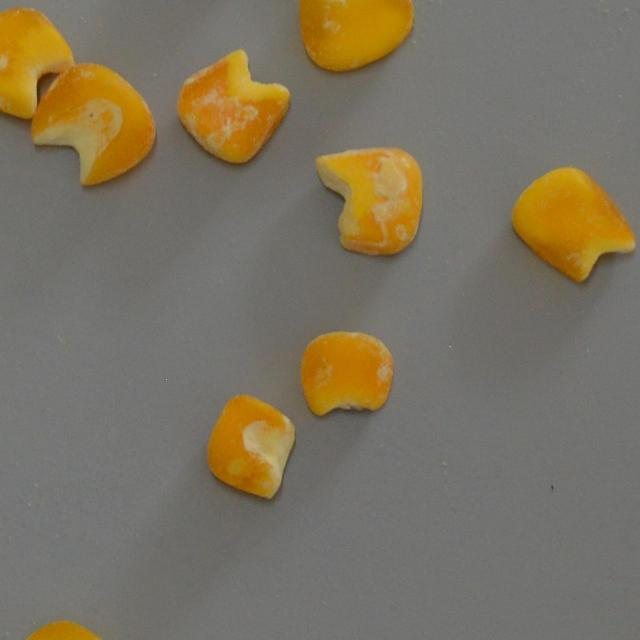no_canjicado: (510, 166, 634, 282), (204, 394, 296, 500)
pelicula: (28, 61, 156, 188), (174, 46, 290, 164), (311, 146, 424, 257), (0, 6, 75, 120), (298, 0, 415, 73), (300, 329, 394, 416), (2, 619, 124, 640)
